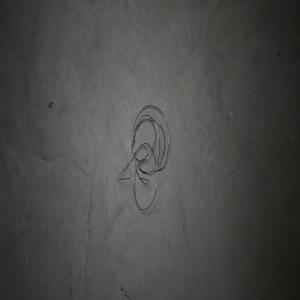Wire: (117, 105, 168, 210)
